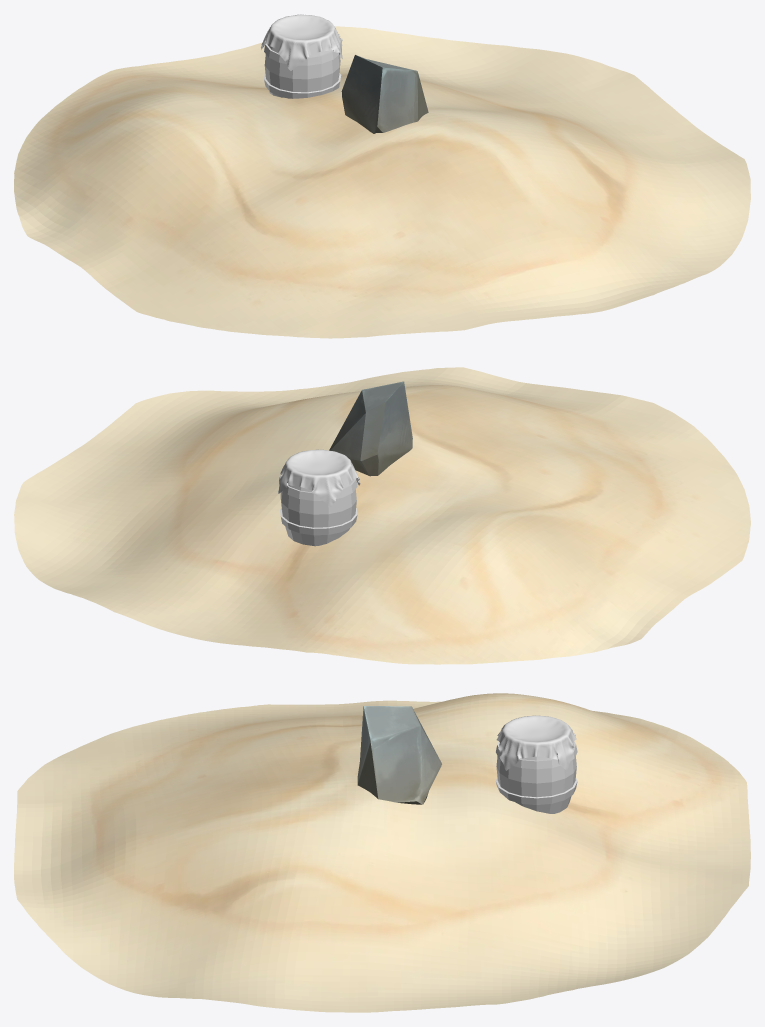
File: island_full.glb
The picture shows the model from 3 angles, top to bottom: view 1: azimuth 30°, elevation 25°; view 2: azimuth 150°, elevation 25°; view 3: azimuth 270°, elevation 25°; orthographic projection. The views are drawn at different scales.
Parts seen in each view (by area): view 1: Sand, Barrel, Rock; view 2: Sand, Barrel, Rock; view 3: Sand, Barrel, Rock.
Part boxes in pixels (left/top/right/bottom): Sand: left=14, top=26, right=750, bottom=338; Barrel: left=261, top=14, right=342, bottom=98; Rock: left=341, top=55, right=428, bottom=133; Sand: left=14, top=367, right=750, bottom=664; Barrel: left=278, top=449, right=360, bottom=546; Rock: left=329, top=381, right=412, bottom=476; Sand: left=14, top=693, right=750, bottom=1012; Barrel: left=495, top=715, right=577, bottom=813; Rock: left=357, top=706, right=441, bottom=804.
Size of what is drawn, in the model's own units: 17.82 by 4.26 by 17.73.
3 materials, 3 textured.
